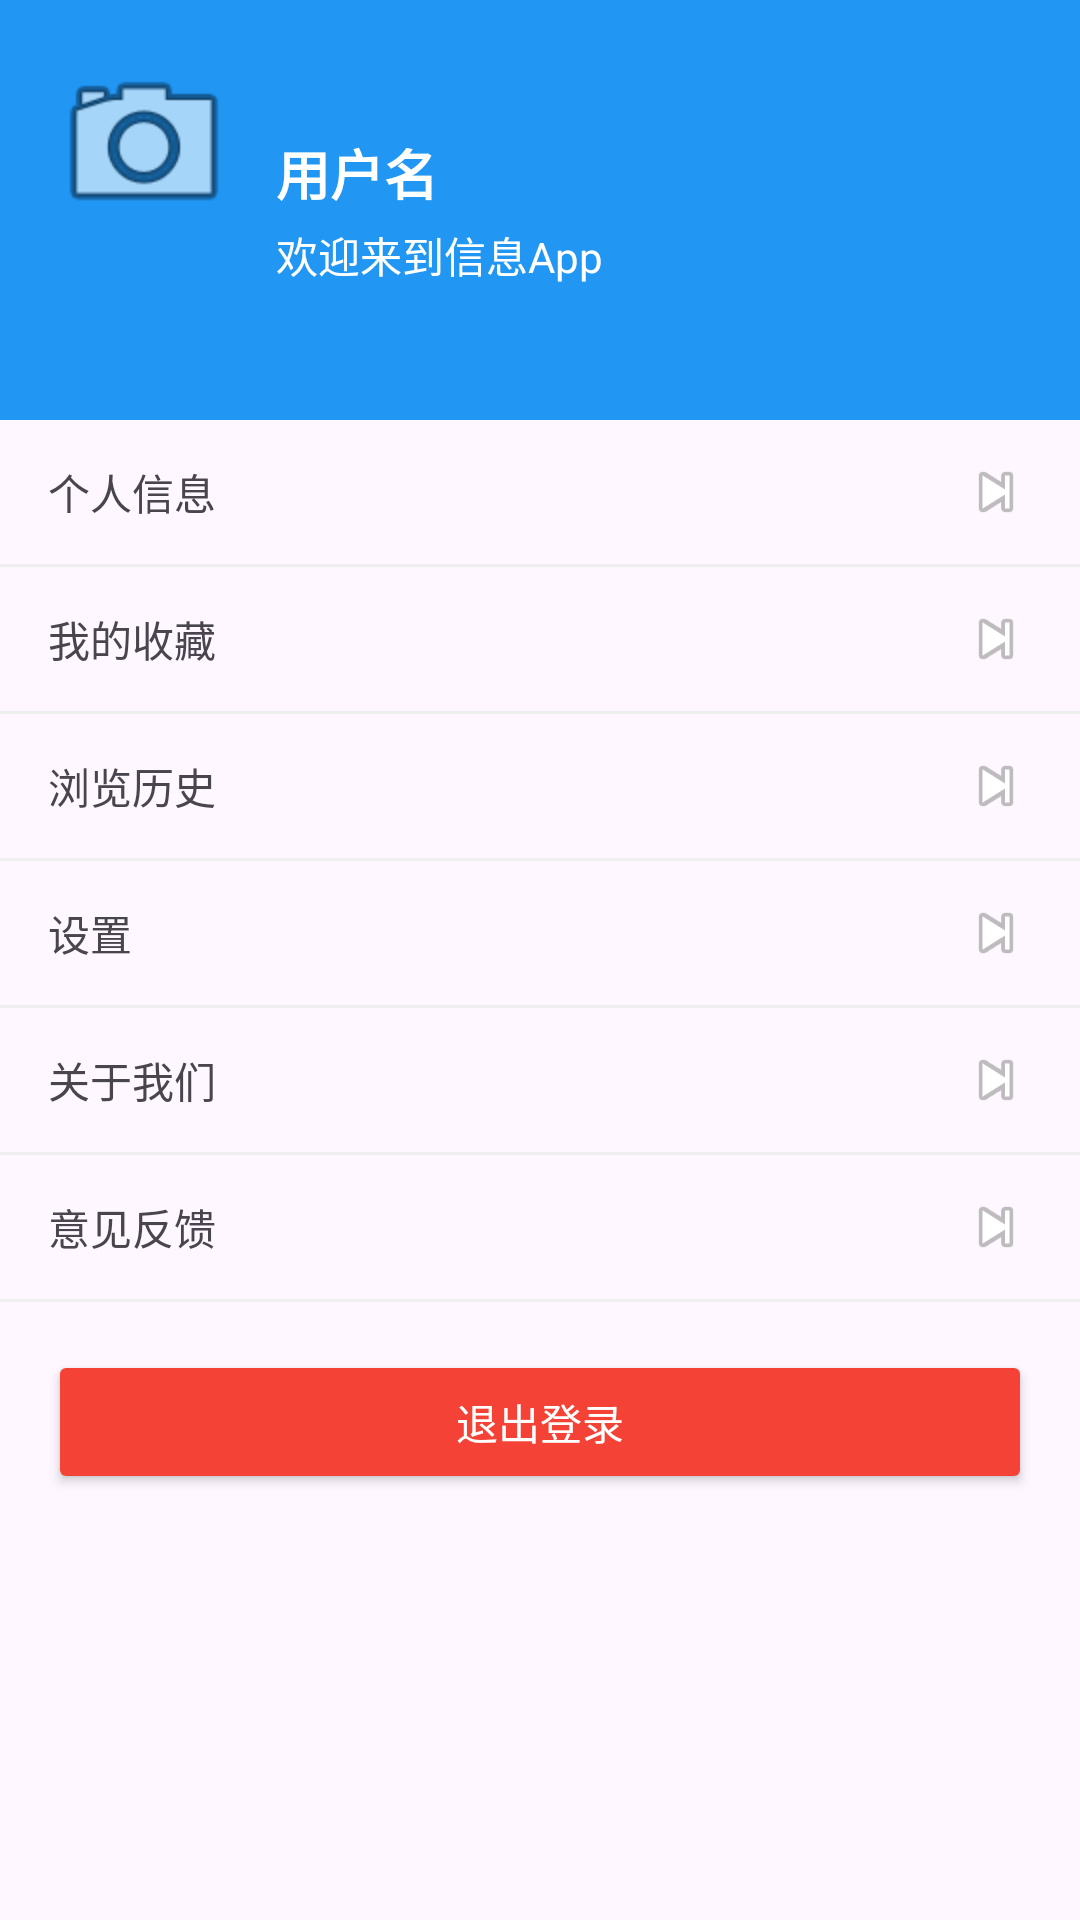

Icons on this 1080 × 1920 Android screen, each with its box as detection(x1, y1, x2, y2):
camera: detection(70, 82, 218, 200)
next: detection(979, 472, 1013, 512), detection(979, 619, 1013, 659), detection(979, 766, 1013, 806), detection(979, 913, 1013, 953), detection(979, 1060, 1013, 1100), detection(979, 1207, 1013, 1247)
